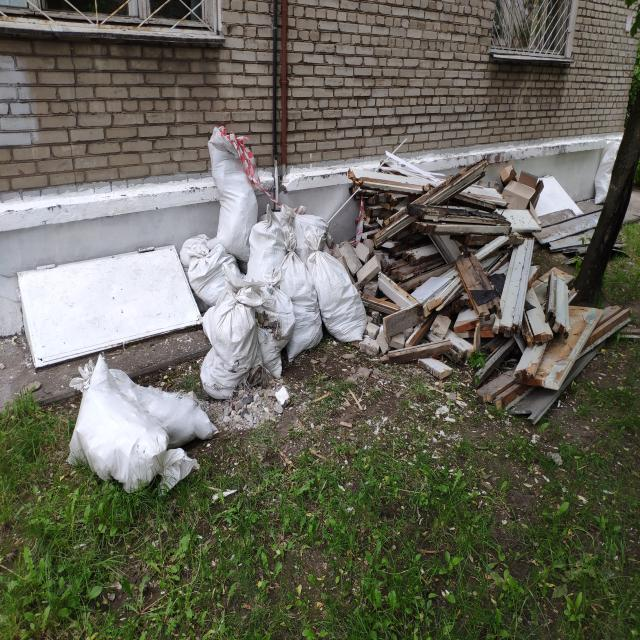entulho: (473, 258, 627, 428), (12, 240, 199, 366), (67, 363, 222, 488), (421, 158, 578, 232), (207, 126, 257, 265), (273, 236, 319, 360), (312, 240, 361, 352), (245, 209, 292, 307), (207, 288, 264, 363), (352, 151, 443, 196), (198, 339, 251, 401), (281, 205, 329, 259), (251, 322, 290, 383), (425, 210, 505, 237), (474, 372, 525, 410), (382, 296, 424, 342), (226, 129, 261, 182), (420, 274, 464, 316), (372, 209, 417, 249), (377, 271, 418, 310), (180, 230, 210, 266), (443, 329, 475, 359), (419, 357, 451, 381)
